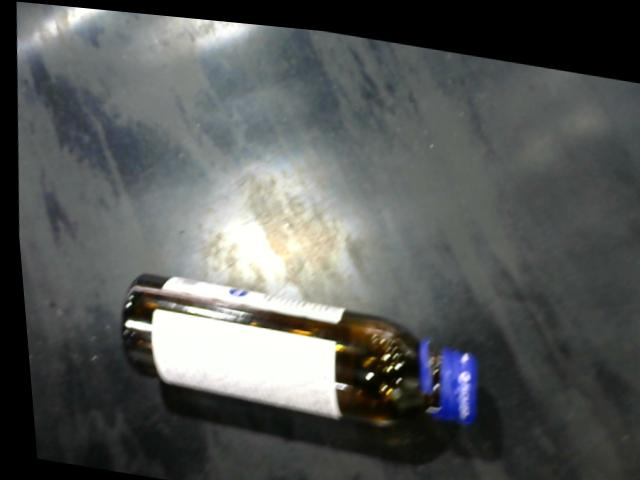glass: (113, 267, 477, 426)
